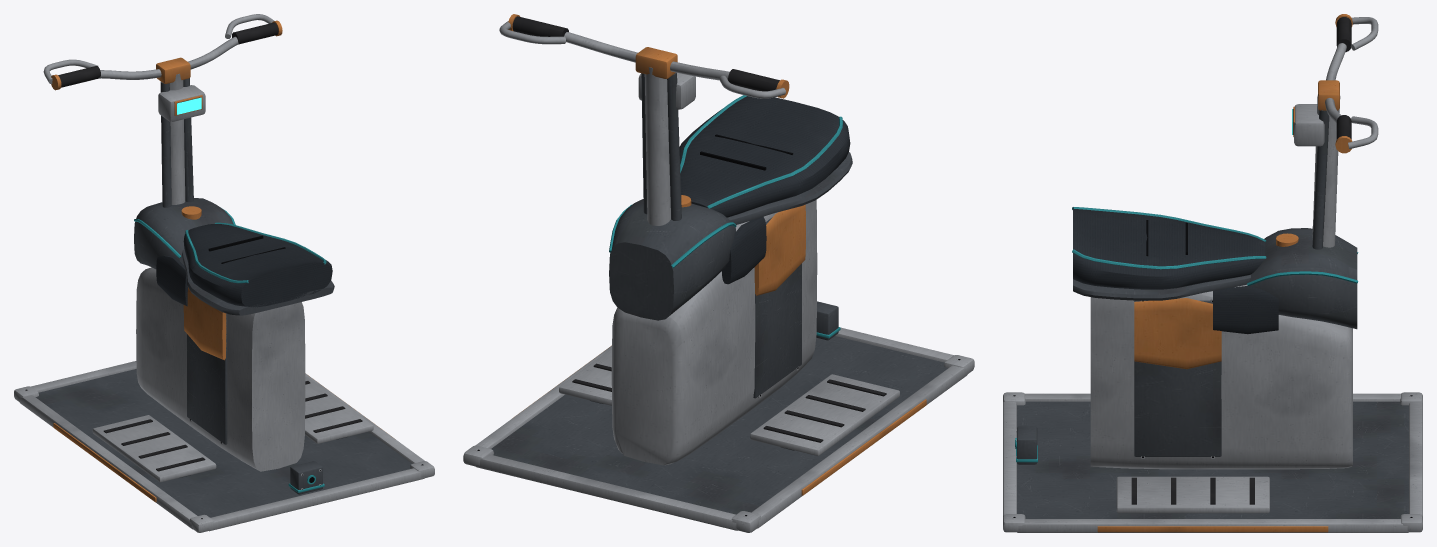
Rendered from drivers_saddle_3.glb.
The picture shows the model from 3 angles, left to right: view 1: azimuth 30°, elevation 25°; view 2: azimuth 150°, elevation 25°; view 3: azimuth 270°, elevation 25°; orthographic projection. The views are drawn at different scales.
Parts seen in each view (by area): view 1: Base, Cushion, SaddlePan; view 2: Base, Cushion, SaddlePan; view 3: Base, Cushion, SaddlePan.
Part boxes in pixels (x1,y1,x2,y2): Base: (14,14,434,532); Cushion: (183,222,332,307); SaddlePan: (182,249,334,315); Base: (463,14,974,532); Cushion: (679,95,850,217); SaddlePan: (727,152,852,224); Base: (1003,14,1422,532); Cushion: (1072,207,1266,289); SaddlePan: (1073,274,1250,300).
Bounding box in the file's own units: 0.718 × 0.9895 × 0.96.
10 materials, 6 textured.
